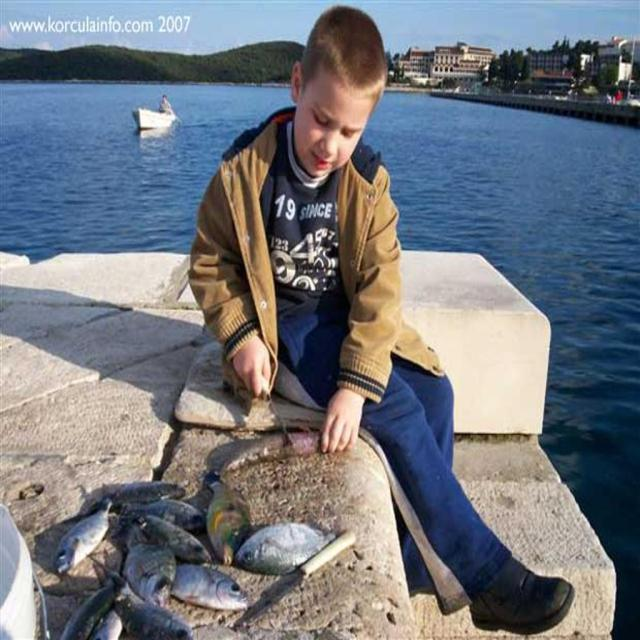Face: (299, 73, 376, 178)
